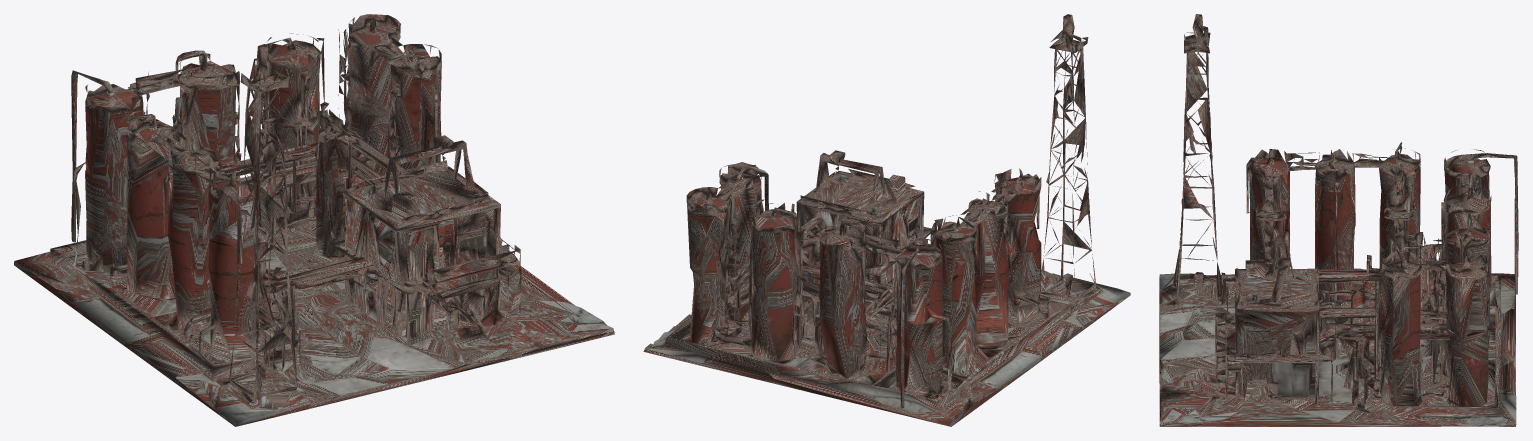
Rendered from malastareworks.lod1.glb.
3 renders of one model, left to right at view 1: azimuth 30°, elevation 25°; view 2: azimuth 150°, elevation 25°; view 3: azimuth 270°, elevation 25°, orthographic. The views are drawn at different scales.
Visible parts, largest first — view 1: malastareworks-centred; view 2: malastareworks-centred; view 3: malastareworks-centred.
Part boxes in pixels (left/top/right/bottom): malastareworks-centred: left=14, top=14, right=614, bottom=426; malastareworks-centred: left=643, top=14, right=1130, bottom=426; malastareworks-centred: left=1159, top=14, right=1518, bottom=426.
Size of the model in its own units: 59.04 by 52.23 by 59.96.
Materials: 1 (1 with a texture image).
